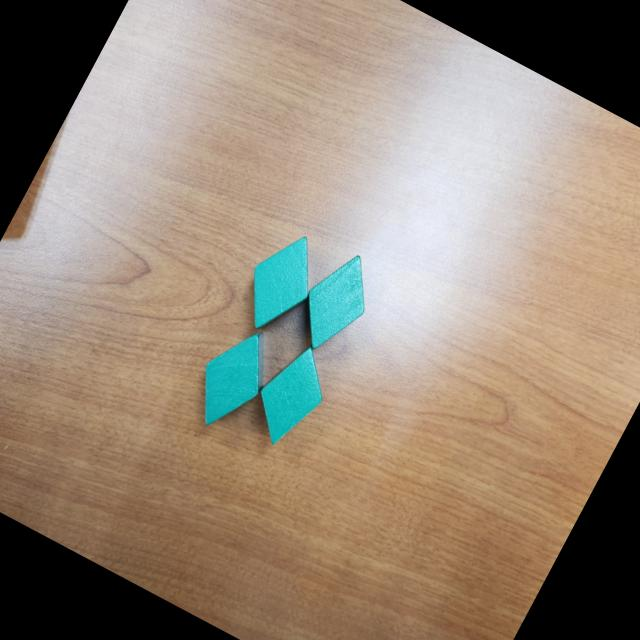green: (182, 315, 286, 438), (228, 222, 332, 344), (284, 243, 386, 364), (240, 336, 342, 456)
